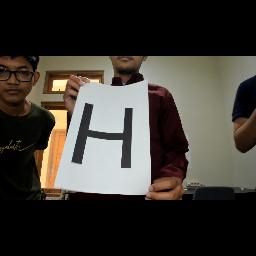h: (69, 100, 137, 172)
